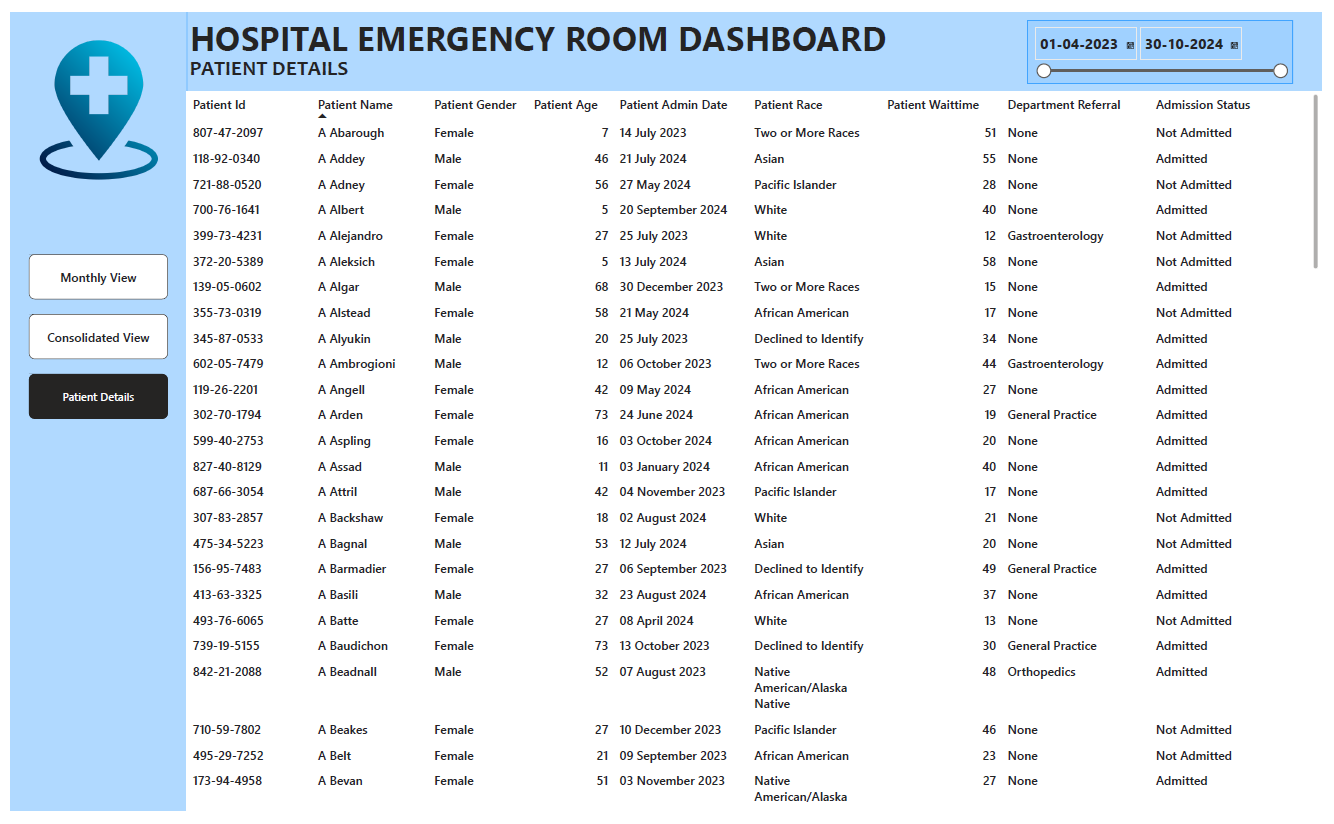

The dashboard page shown, as its layout file describes it:
{"tool":"powerbi","page":{"name":"Patient Details","canvas":[2300,1400],"ordinal":2},"visuals":[{"type":"shape","box":[0,0,310,1401.1],"z":0},{"type":"shape","box":[309.3,0,1990.7,138.3],"z":1000},{"type":"textbox","box":[309.3,0,1255.5,105.5],"z":2000},{"type":"textbox","box":[309.3,69.1,382.1,69.1],"z":3000},{"type":"slicer","fields":{"Values":["Date Table.Date"]},"box":[1783.8,13.5,467.6,110.8],"z":4000},{"type":"image","box":[32.8,29.1,243.8,283.9],"z":5000},{"type":"tableEx","fields":{"Values":["Hospital ER_Data.Patient Id","Hospital ER_Data.Patient Full Name","Hospital ER_Data.Patient Gender","Hospital ER_Data.Patient Age","Hospital ER_Data.Patient Admin Date","Hospital ER_Data.Patient Race","Sum(Hospital ER_Data.Patient Waittime)","Hospital ER_Data.Department Referral","Hospital ER_Data.Admission Status"]},"box":[308.8,138.2,1991.2,1261.8],"z":6000},{"type":"pageNavigator","box":[32.4,423.5,244.1,291.2],"z":7000}]}

Visuals, with their boxes in screenshot pixels (x1, y1, x2, y2), scaled from the page's 2300x1400 canvas onto the 1334x824 screenshot:
shape: x1=0 y1=0 x2=180 y2=823
shape: x1=179 y1=0 x2=1333 y2=81
textbox: x1=179 y1=0 x2=908 y2=62
textbox: x1=179 y1=41 x2=401 y2=81
slicer - Date Table.Date: x1=1035 y1=8 x2=1306 y2=73
image: x1=19 y1=17 x2=160 y2=184
tableEx - Hospital ER_Data.Patient Id x Hospital ER_Data.Patient Full Name: x1=179 y1=81 x2=1333 y2=823
pageNavigator: x1=19 y1=249 x2=160 y2=421
